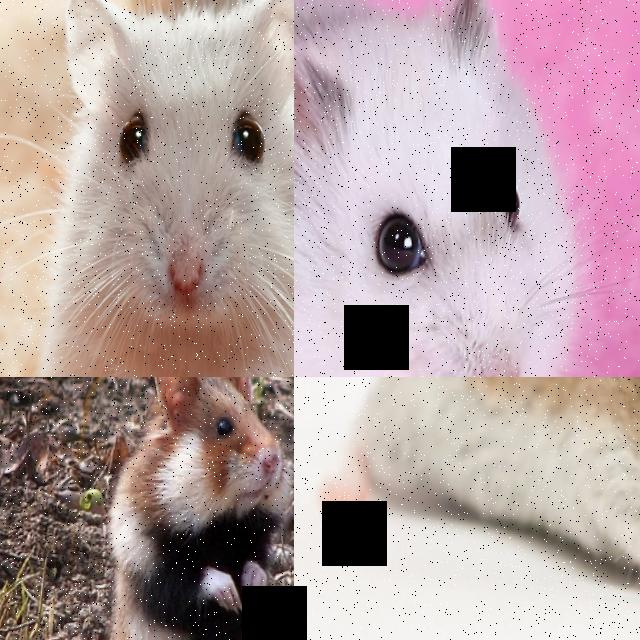hamster: (294, 0, 592, 377), (36, 0, 294, 377), (364, 377, 640, 624), (97, 377, 294, 640)
